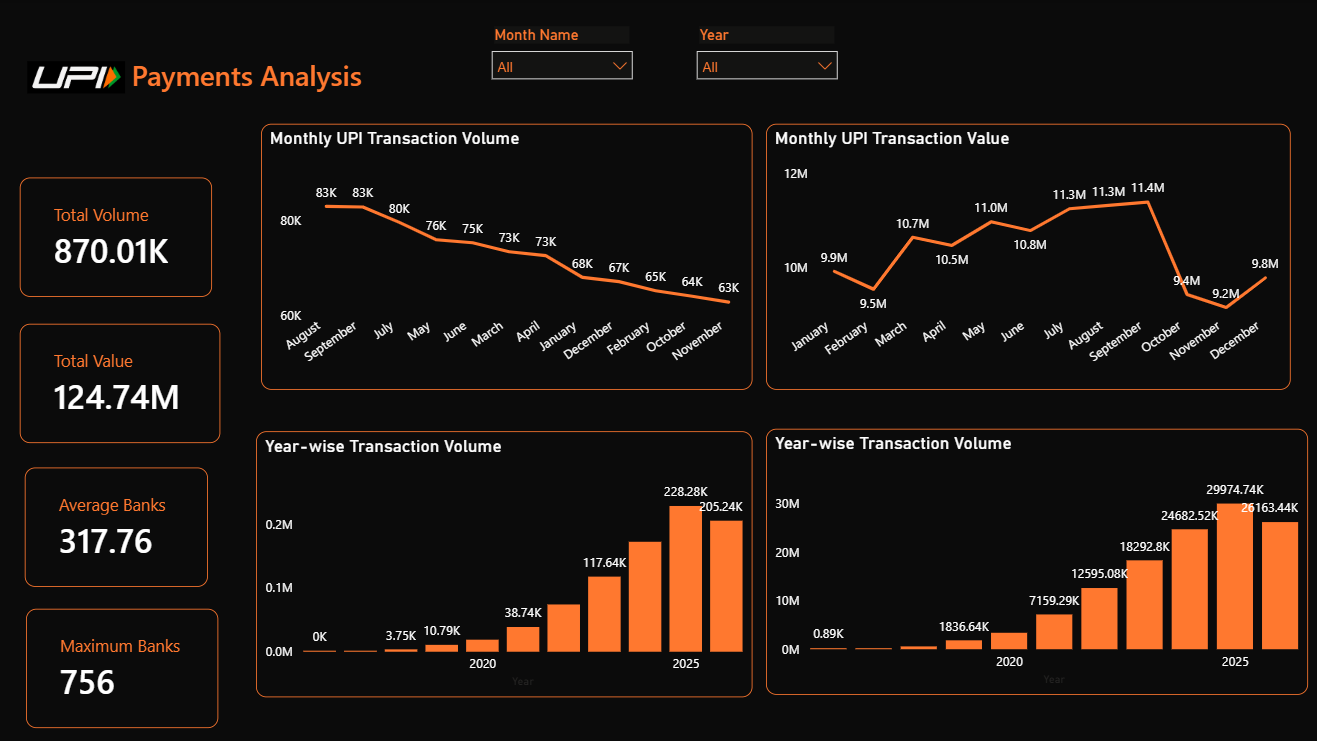

Layout of this report page (visuals, bound fields, positions):
{"tool":"powerbi","page":{"name":"Page 1","canvas":[1280,720],"ordinal":0},"visuals":[{"type":"textbox","box":[23,31.8,371.9,87.8],"z":0,"group":"g1"},{"type":"cardVisual","fields":{"Data":["UPI_Statistics.Total_Volume"]},"box":[23.3,171.5,185.2,115.3],"z":0},{"type":"image","box":[29.9,42.8,94.7,64.5],"z":1000,"group":"g1"},{"type":"cardVisual","fields":{"Data":["UPI_Statistics.Total_Value"]},"box":[23.3,312.9,193.5,115.3],"z":1000},{"type":"cardVisual","fields":{"Data":["UPI_Statistics.Avg_Participating_Banks"]},"box":[27.4,451.5,177,115.3],"z":2000},{"type":"cardVisual","fields":{"Data":["UPI_Statistics.Maximum_Banks"]},"box":[28.8,587.3,185.2,115.3],"z":3000},{"type":"group","id":"g1","title":"Group 1","box":[23,31.8,371.9,87.8],"z":4000},{"type":"slicer","fields":{"Values":["UPI_Statistics.Month_Name"]},"box":[467.9,20.6,156.4,86.4],"z":5000},{"type":"slicer","fields":{"Values":["UPI_Statistics.Year"]},"box":[665.5,20.6,156.4,86.4],"z":6000},{"type":"lineChart","title":"Monthly UPI Transaction Volume","fields":{"Y":["UPI_Statistics.Total_Volume"],"Category":["UPI_Statistics.Month_Name"]},"box":[255.2,119.4,474.8,256.6],"z":7000},{"type":"lineChart","title":"Monthly UPI Transaction Value","fields":{"Category":["UPI_Statistics.Month_Date.Variation.Date Hierarchy.Month"],"Y":["UPI_Statistics.Total_Value"]},"box":[743.7,119.4,506.3,256.6],"z":8000},{"type":"columnChart","title":"Year-wise Transaction Volume","fields":{"Category":["UPI_Statistics.Year"],"Y":["UPI_Statistics.Total_Volume"]},"box":[251.1,415.8,478.9,256.6],"z":9000},{"type":"columnChart","title":"Year-wise Transaction Volume","fields":{"Category":["UPI_Statistics.Year"],"Y":["UPI_Statistics.Total_Value"]},"box":[743.7,414.4,522.8,256.6],"z":10000}]}

Visuals, with their boxes in screenshot pixels (x1, y1, x2, y2), scaled from the page's 1280x720 canvas onto the 1317x741 screenshot:
textbox: select_region(24, 33, 406, 123)
cardVisual - UPI_Statistics.Total_Volume: select_region(24, 177, 215, 295)
image: select_region(31, 44, 128, 110)
cardVisual - UPI_Statistics.Total_Value: select_region(24, 322, 223, 441)
cardVisual - UPI_Statistics.Avg_Participating_Banks: select_region(28, 465, 210, 583)
cardVisual - UPI_Statistics.Maximum_Banks: select_region(30, 604, 220, 723)
"Group 1" group: select_region(24, 33, 406, 123)
slicer - UPI_Statistics.Month_Name: select_region(481, 21, 642, 110)
slicer - UPI_Statistics.Year: select_region(685, 21, 846, 110)
"Monthly UPI Transaction Volume" lineChart: select_region(263, 123, 751, 387)
"Monthly UPI Transaction Value" lineChart: select_region(765, 123, 1286, 387)
"Year-wise Transaction Volume" columnChart: select_region(258, 428, 751, 692)
"Year-wise Transaction Volume" columnChart: select_region(765, 426, 1303, 691)
